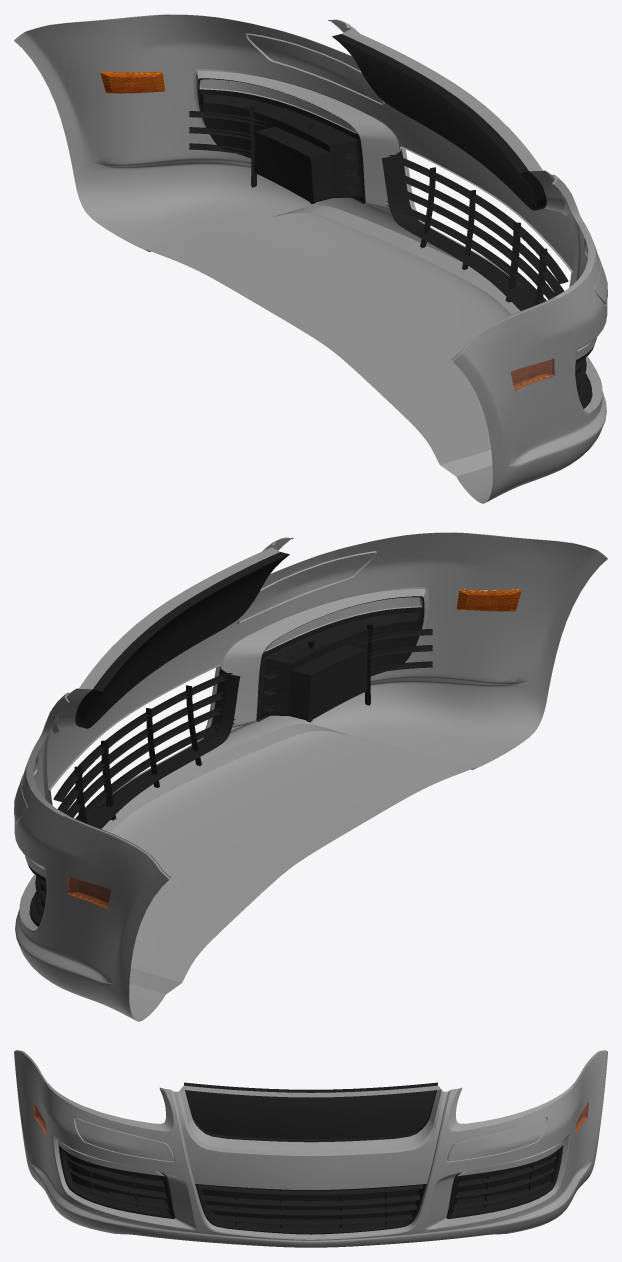
The picture shows the model from 3 angles, top to bottom: view 1: azimuth 30°, elevation 25°; view 2: azimuth 150°, elevation 25°; view 3: azimuth 270°, elevation 25°; orthographic projection. The views are drawn at different scales.
Visible parts, largest first — view 1: X6164_20_021G_C_X6164_20_021G_C_1_DaS, X6164_20_021G_C_X6164_20_021G_C_3_D, X6164_20_021G_C_X6164_20_021G_C_2_D, X6164_20_021G_C_X6164_20_021G_C_7_DaS, X6164_20_021G_C_X6164_20_021G_C_1_DaS_E, X6164_20_021G_C_X6164_20_021G_C_7_DaS_E, X6164_20_021G_C_X6164_20_021G_C_5_N, X6164_20_021G_C_X6164_20_021G_C_9_N, X6164_20_021G_C_8_DTaSI_X6164_20_021G_C; view 2: X6164_20_021G_C_X6164_20_021G_C_1_DaS, X6164_20_021G_C_X6164_20_021G_C_3_D, X6164_20_021G_C_X6164_20_021G_C_2_D, X6164_20_021G_C_X6164_20_021G_C_7_DaS, X6164_20_021G_C_X6164_20_021G_C_1_DaS_E, X6164_20_021G_C_X6164_20_021G_C_7_DaS_E, X6164_20_021G_C_X6164_20_021G_C_9_N, X6164_20_021G_C_X6164_20_021G_C_5_N, X6164_20_021G_C_X6164_20_021G_C_4_DTaSI; view 3: X6164_20_021G_C_X6164_20_021G_C_1_DaS, X6164_20_021G_C_X6164_20_021G_C_3_D, X6164_20_021G_C_X6164_20_021G_C_7_DaS, X6164_20_021G_C_X6164_20_021G_C_2_D, X6164_20_021G_C_X6164_20_021G_C_1_DaS_E, X6164_20_021G_C_X6164_20_021G_C_7_DaS_E.
Boxes of the visible parts, x1,y1,x2,y2 form: X6164_20_021G_C_X6164_20_021G_C_1_DaS: [14, 14, 607, 503]; X6164_20_021G_C_X6164_20_021G_C_3_D: [202, 34, 576, 378]; X6164_20_021G_C_X6164_20_021G_C_2_D: [189, 78, 593, 408]; X6164_20_021G_C_X6164_20_021G_C_7_DaS: [201, 24, 596, 359]; X6164_20_021G_C_X6164_20_021G_C_1_DaS_E: [15, 14, 607, 414]; X6164_20_021G_C_X6164_20_021G_C_7_DaS_E: [199, 27, 590, 351]; X6164_20_021G_C_X6164_20_021G_C_5_N: [100, 71, 165, 93]; X6164_20_021G_C_X6164_20_021G_C_9_N: [511, 359, 554, 390]; X6164_20_021G_C_8_DTaSI_X6164_20_021G_C: [511, 359, 554, 390]; X6164_20_021G_C_X6164_20_021G_C_1_DaS: [14, 532, 607, 1021]; X6164_20_021G_C_X6164_20_021G_C_3_D: [45, 552, 419, 896]; X6164_20_021G_C_X6164_20_021G_C_2_D: [28, 596, 432, 926]; X6164_20_021G_C_X6164_20_021G_C_7_DaS: [25, 542, 420, 877]; X6164_20_021G_C_X6164_20_021G_C_1_DaS_E: [14, 532, 606, 932]; X6164_20_021G_C_X6164_20_021G_C_7_DaS_E: [31, 545, 422, 869]; X6164_20_021G_C_X6164_20_021G_C_9_N: [456, 589, 521, 611]; X6164_20_021G_C_X6164_20_021G_C_5_N: [67, 877, 110, 908]; X6164_20_021G_C_X6164_20_021G_C_4_DTaSI: [67, 877, 110, 908]; X6164_20_021G_C_X6164_20_021G_C_1_DaS: [14, 1050, 607, 1247]; X6164_20_021G_C_X6164_20_021G_C_3_D: [66, 1082, 555, 1228]; X6164_20_021G_C_X6164_20_021G_C_7_DaS: [58, 1085, 563, 1239]; X6164_20_021G_C_X6164_20_021G_C_2_D: [58, 1145, 563, 1234]; X6164_20_021G_C_X6164_20_021G_C_1_DaS_E: [18, 1051, 603, 1230]; X6164_20_021G_C_X6164_20_021G_C_7_DaS_E: [61, 1090, 560, 1238].
Size of the model in its own units: 77.48 by 61.1 by 211.
